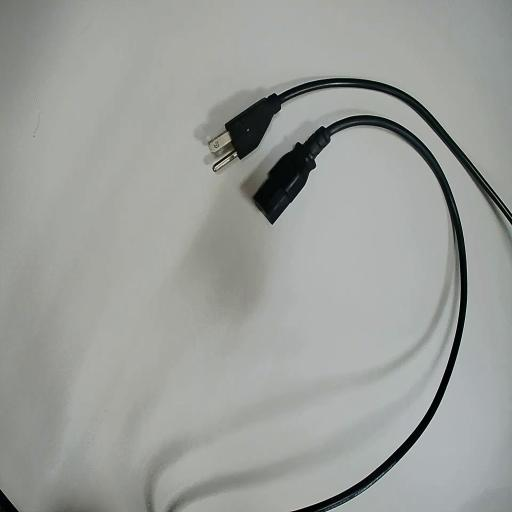wire: (252, 116, 465, 511), (225, 79, 511, 221)
